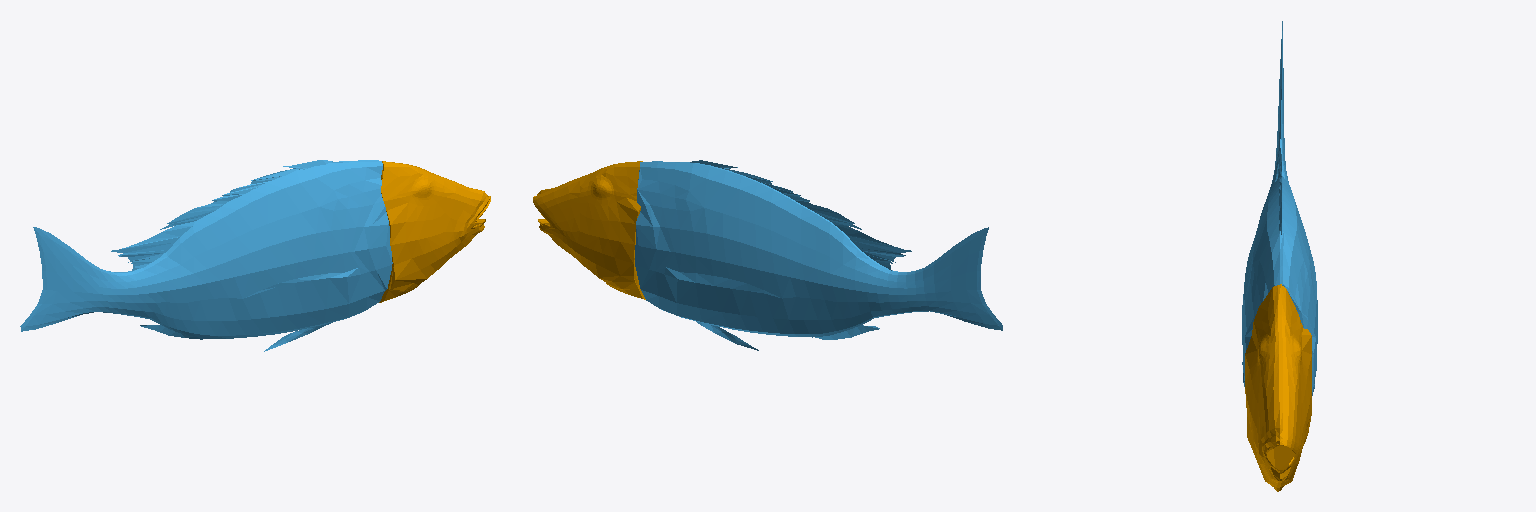
The robot description file, URDF, robot "fish":
<?xml version="1.0" ?>
<robot name="fish" xmlns:xacro="http://www.ros.org/wiki/xacro">
  <link name="head">
    <visual>
      <origin rpy="0 0 0" xyz="0 0 0"/>
      <geometry>
        <mesh filename="package://fine-fish/head2.stl"/>
      </geometry>
    </visual>
    <collision>
      <origin rpy="0 0 0" xyz="0 0 0"/>
      <geometry>
        <mesh filename="package://fine-fish/head2.stl"/>
      </geometry>
    </collision>
  </link>
  <link name="body">
    <visual>
      <origin rpy="0 0 0" xyz="-0.86 0 -0.01"/>
      <geometry>
        <mesh filename="package://fine-fish/body2.stl"/>
      </geometry>
    </visual>
    <collision>
      <origin rpy="0 0 0" xyz="-0.86 0 -0.01"/>
      <geometry>
        <mesh filename="package://fine-fish/body2.stl"/>
      </geometry>
    </collision>
  </link>

  <joint name="joint1" type="revolute">
    <parent link="head"/>
    <child link="body"/>
    <origin rpy="0 0 0" xyz="-0.3 0 0"/>
    <axis xyz="0 0 1"/>
    <limit effort="1000" lower="-1.5" upper="1.5" velocity="0.2"/>
  </joint>

</robot>

--- Render facts (derived) ---
Views: 3 orthographic renders of the robot side by side, from view 1: azimuth 30°, elevation 25°; view 2: azimuth 150°, elevation 25°; view 3: azimuth 270°, elevation 25°.
Model fish with 2 links and 1 joints (1 revolute), rooted at head, posed every joint at zero.
Links seen in each view (by area): view 1: body, head; view 2: body, head; view 3: head, body.
Boxes of the visible links, x1,y1,x2,y2 form: body: (20,160,392,351); head: (379,161,490,302); body: (635,160,1002,350); head: (533,161,645,299); head: (1245,284,1311,491); body: (1242,21,1317,395).
Size in the robot's own frame: 2.41 by 0.2461 by 0.8886 metres.
Meshes: 2 distinct files referenced, 2 mesh visuals loaded (2 binary STL).